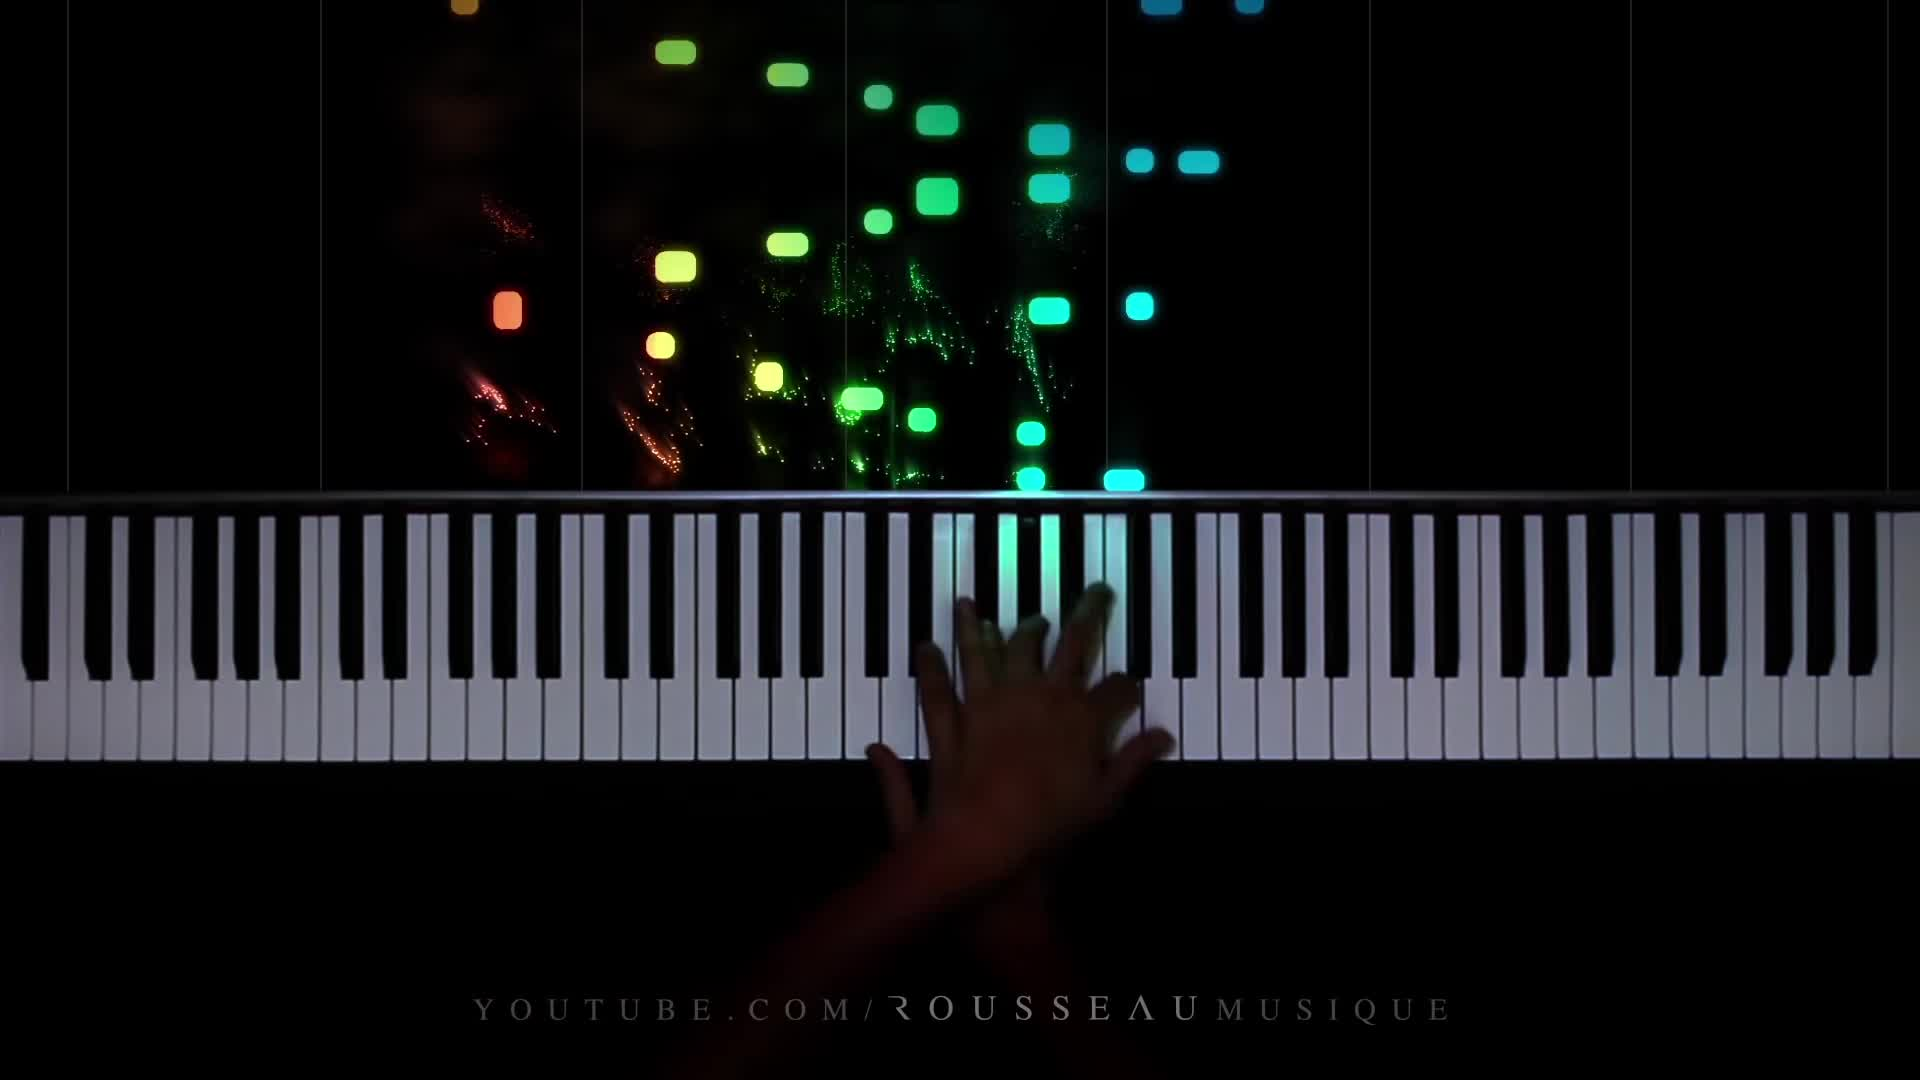left: (976, 578, 1174, 836)
right: (865, 597, 1062, 873)
